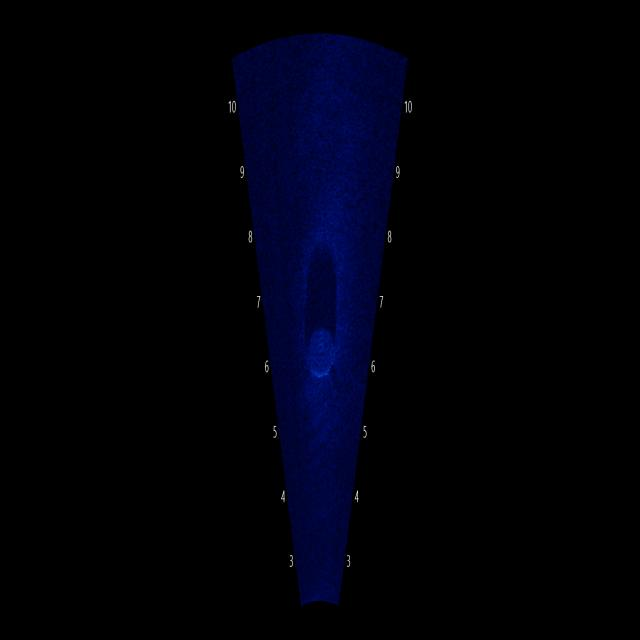circle: (304, 315, 342, 377)
